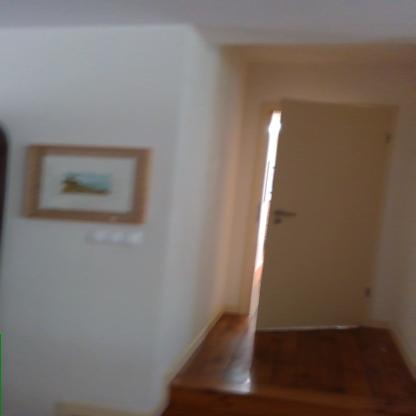semi: (224, 82, 402, 356)
